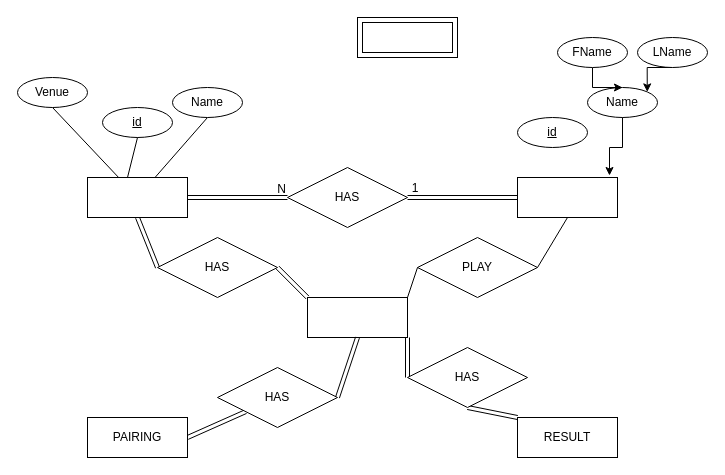
Some shapes in this 725 by 475 pixel diagram are drawn without their labels. Here are the shapes that lost their labels. From the top down, the centre of each, then its label:
At point 407,37: "Entity".
At point 137,197: "TOURNAMENT".
At point 567,197: "PLAYER".
At point 357,317: "BOARD".
